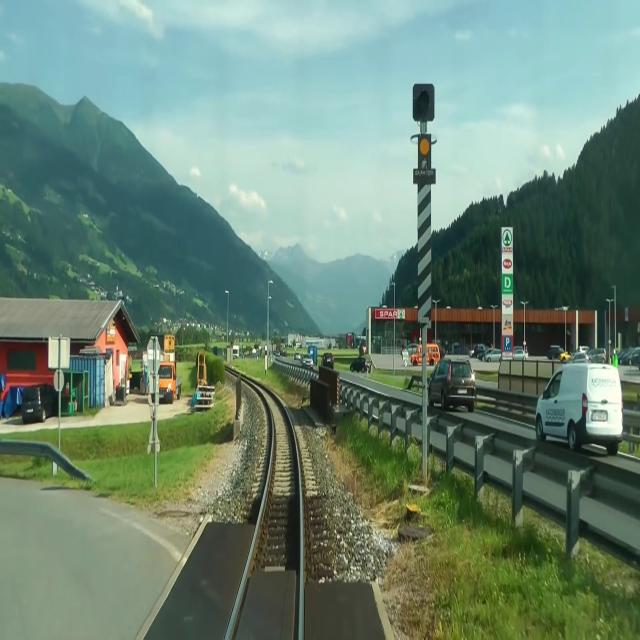rail-track: (230, 390, 298, 639)
